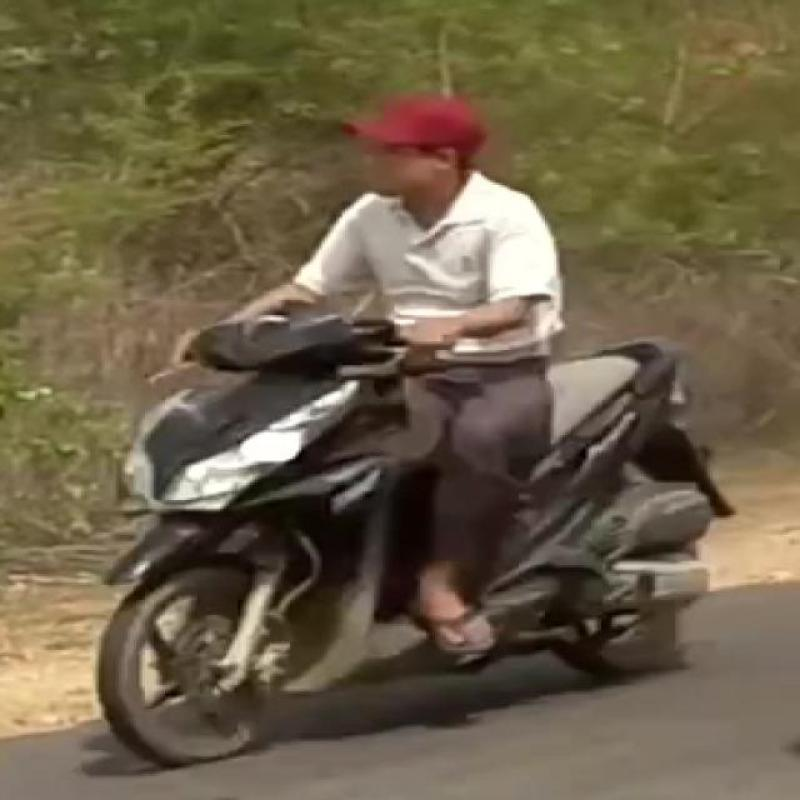nohelmet: (305, 78, 542, 216)
